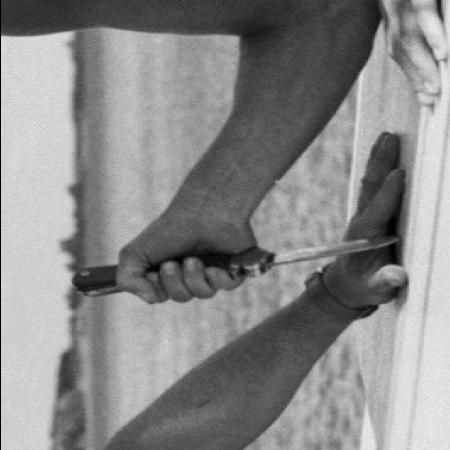long weapon: (152, 222, 402, 305)
